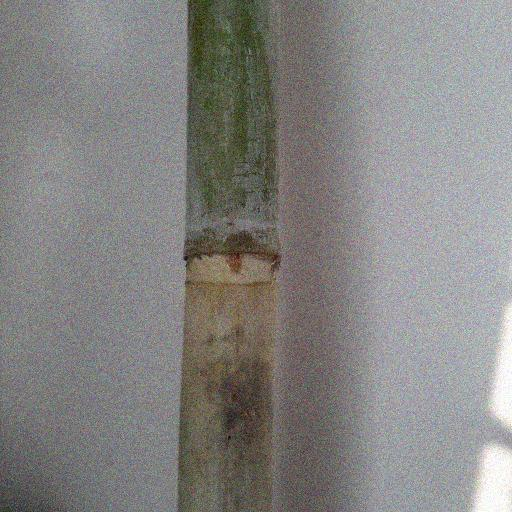Damage_Bud: (227, 252, 245, 276)
